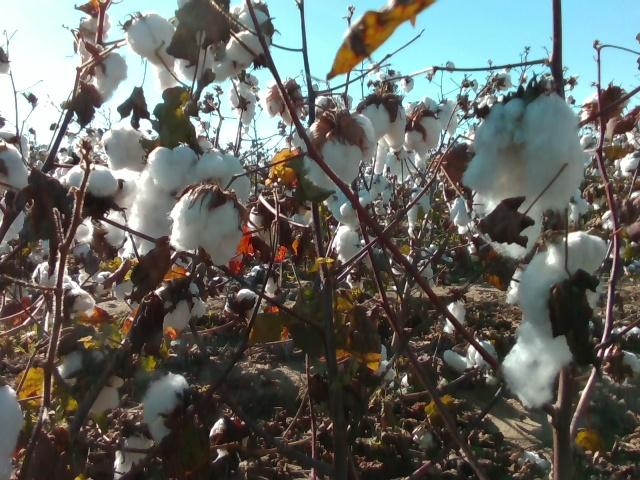cotton_ready: (462, 91, 585, 206), (130, 146, 251, 252), (518, 232, 608, 360), (170, 190, 244, 264), (305, 112, 375, 190), (58, 351, 123, 413), (501, 337, 556, 407), (481, 194, 542, 256), (328, 187, 375, 264), (58, 164, 137, 208), (76, 38, 127, 103), (125, 12, 179, 71), (224, 4, 272, 67), (146, 376, 190, 443), (156, 278, 207, 332), (0, 385, 27, 480), (442, 337, 497, 383), (75, 215, 127, 262), (363, 96, 408, 150), (177, 43, 232, 86), (102, 125, 151, 172), (116, 424, 157, 480), (600, 326, 640, 375), (406, 97, 439, 155), (210, 419, 250, 464), (0, 140, 29, 195), (266, 78, 303, 121), (59, 276, 96, 315), (0, 198, 26, 251), (376, 141, 411, 180), (75, 14, 110, 47), (32, 260, 69, 290)
